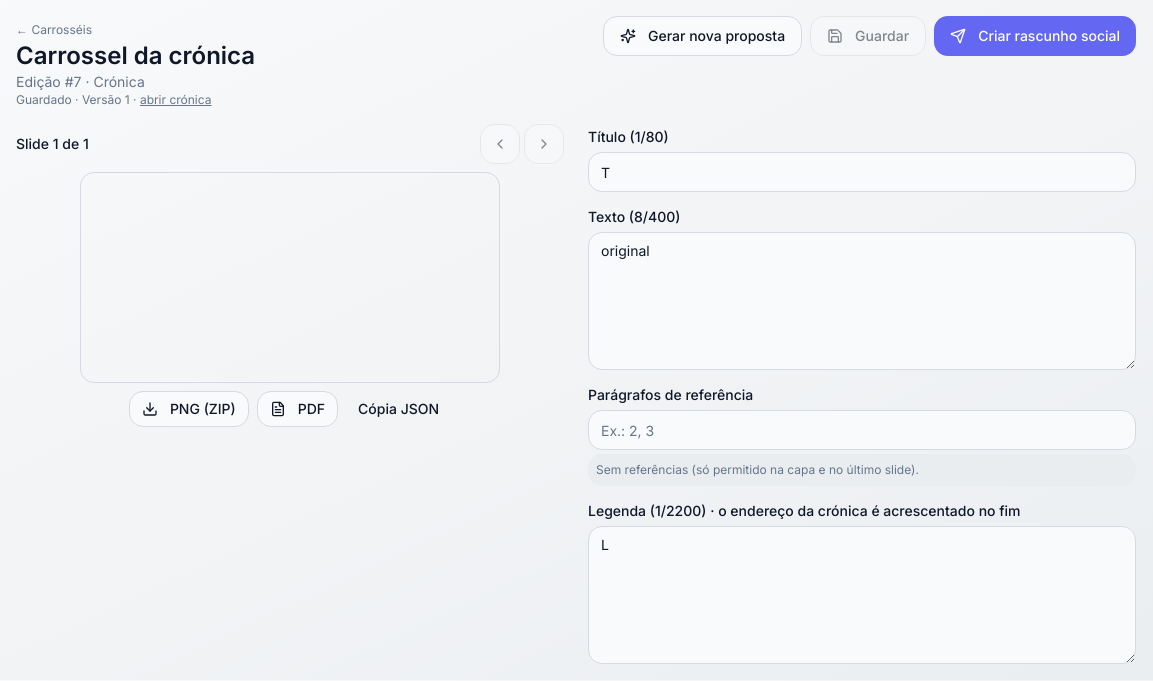
Test: Carrossel — gravação e refetch › sem escrita posterior adota a cópia do servidor e limpa a recuperação
Replace the text in the text box labelled "Texto (8/400)" with "editado" at (862, 301), box [588,232,1136,370]
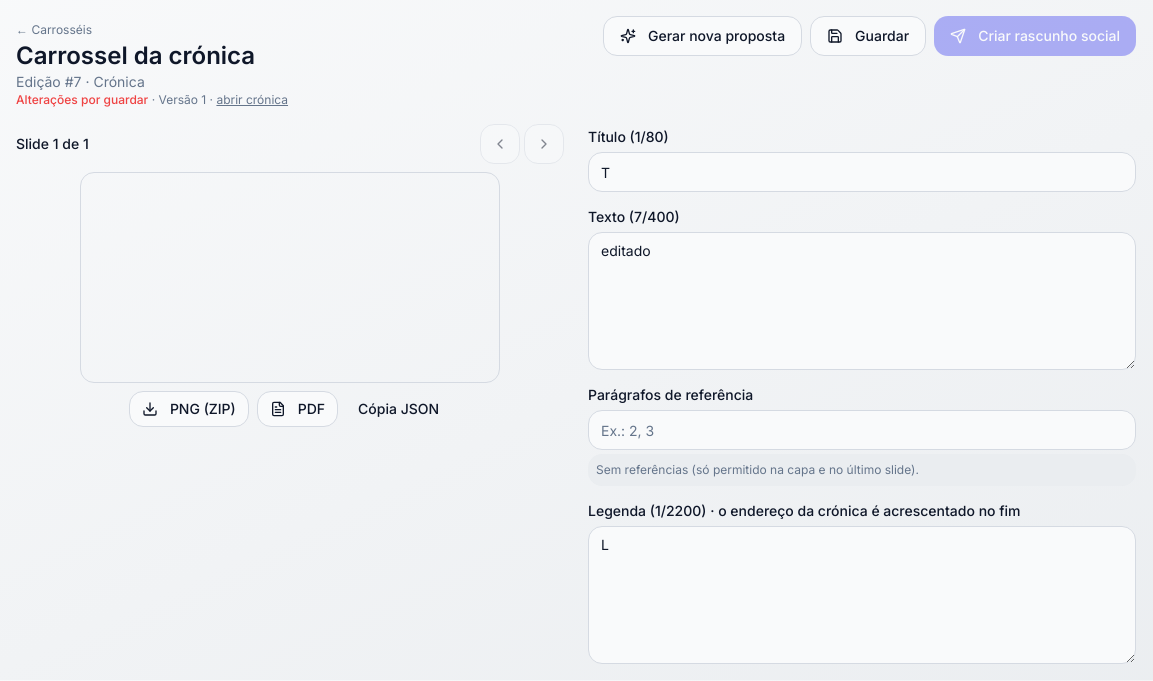
Click the button "Guardar" at (868, 36), box [810,16,926,56]
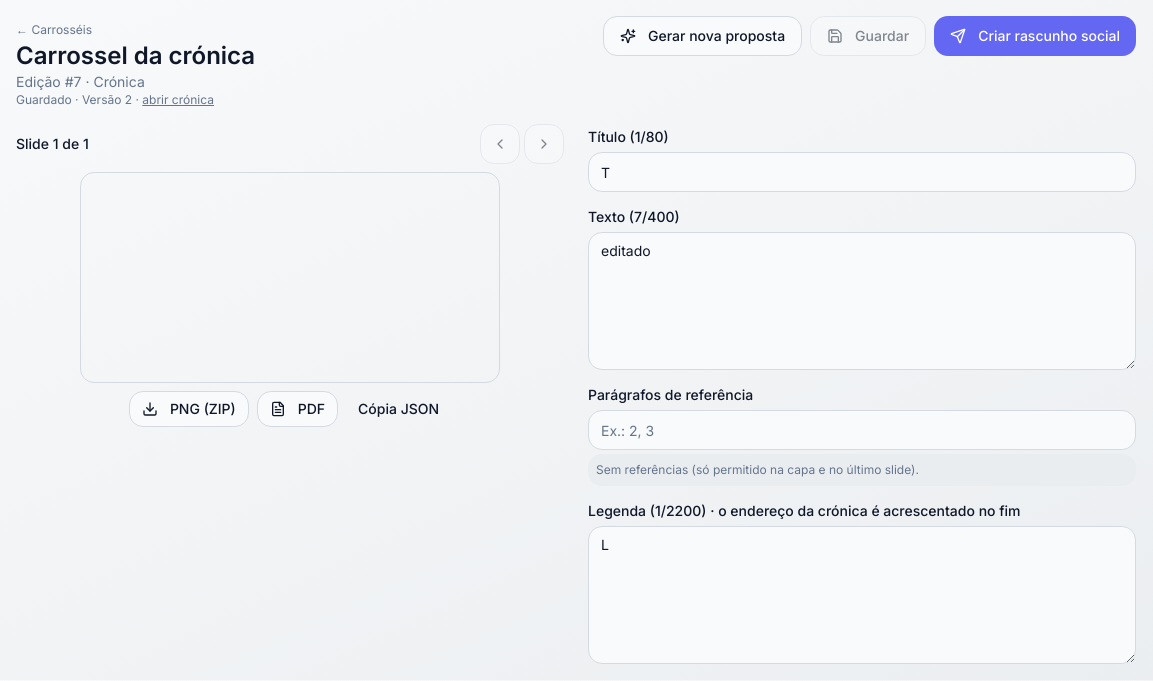
Expected: the text "Guardado" is shown, [16,92,72,107]
